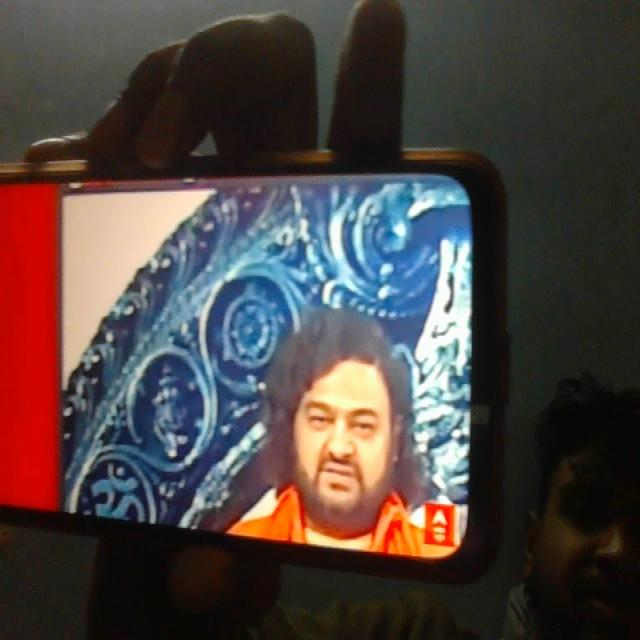fake: (284, 293, 408, 528)
